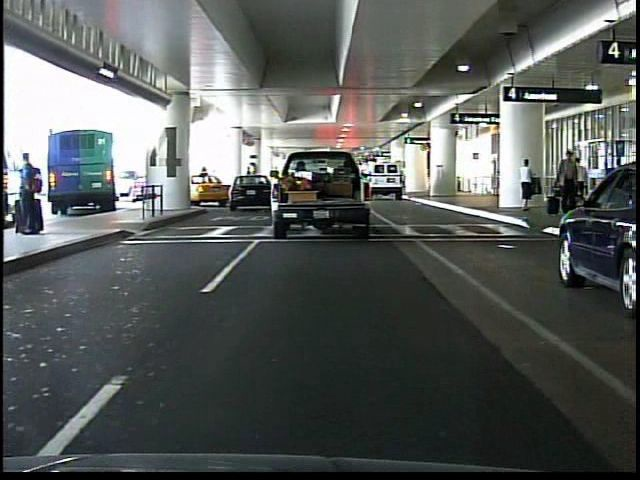person: (14, 142, 50, 239), (556, 147, 585, 213), (566, 155, 592, 221), (515, 155, 538, 214)
